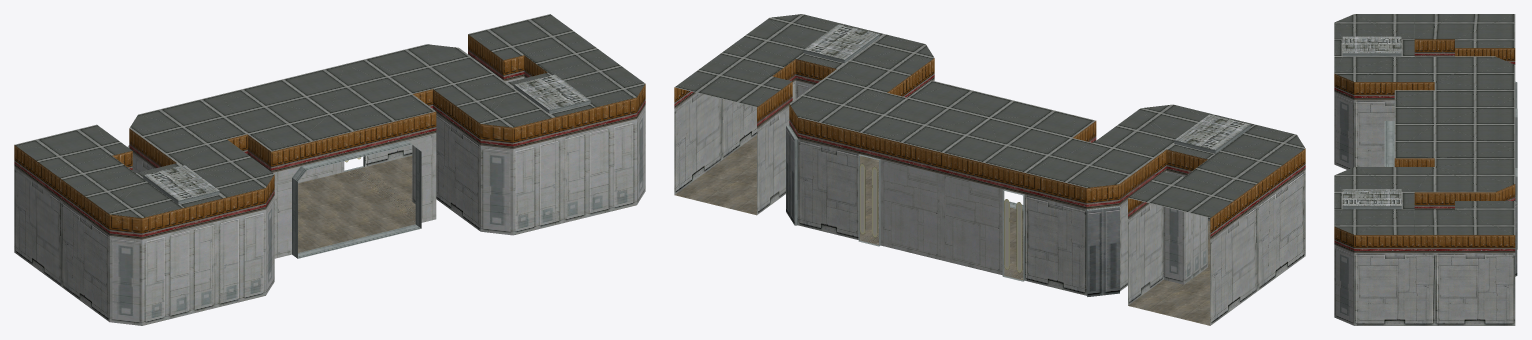
Rendered from mun_all_military_base_police_station_rebl_s01_r1_foyer1_mesh_r1.fbx.
3 renders of one model, left to right at view 1: azimuth 30°, elevation 25°; view 2: azimuth 150°, elevation 25°; view 3: azimuth 270°, elevation 25°, orthographic. The views are drawn at different scales.
Parts seen in each view (by area): view 1: mesh_node; view 2: mesh_node; view 3: mesh_node.
Boxes of the visible parts, left/top/right/bottom form: mesh_node: left=14, top=14, right=645, bottom=325; mesh_node: left=674, top=14, right=1305, bottom=325; mesh_node: left=1334, top=14, right=1517, bottom=325.
Size of the model in its own units: 26 by 5.17 by 9.12.
